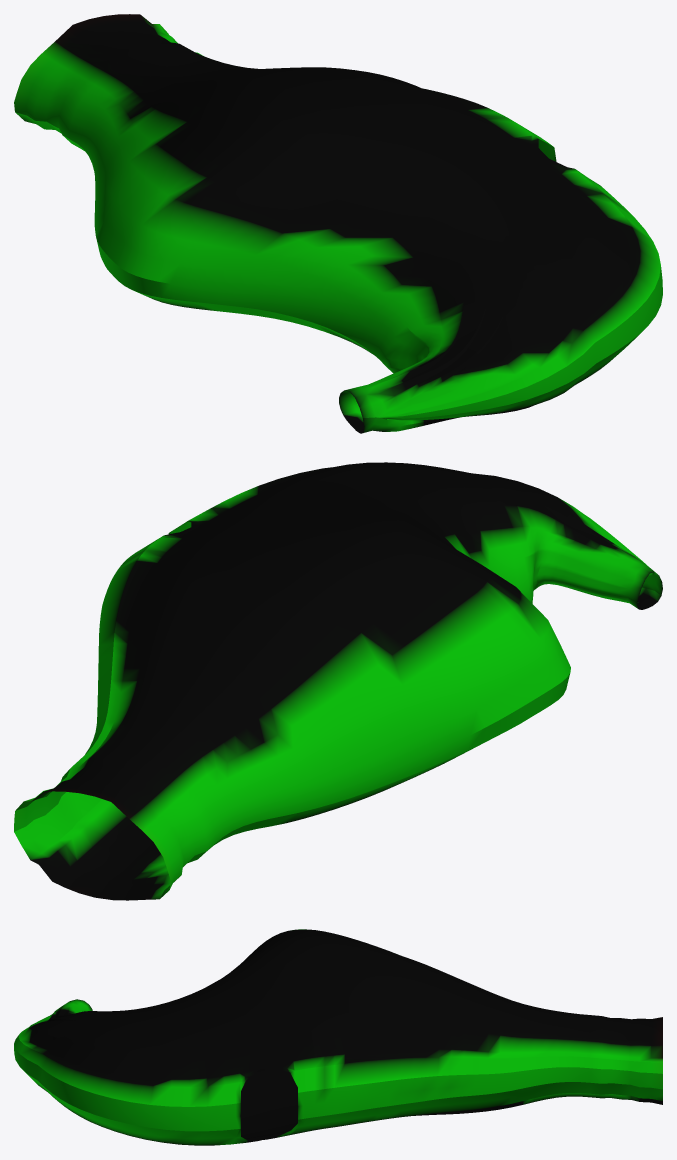
The model's file is Cavern.obj.
3 renders of one model, top to bottom at view 1: azimuth 30°, elevation 25°; view 2: azimuth 150°, elevation 25°; view 3: azimuth 270°, elevation 25°, orthographic. The views are drawn at different scales.
Parts seen in each view (by area): view 1: Cavern; view 2: Cavern; view 3: Cavern.
Boxes of the visible parts, <box> form: Cavern: <box>14,14,662,433</box>; Cavern: <box>14,462,662,900</box>; Cavern: <box>14,929,662,1145</box>.
Size of the model in its own units: 31.59 by 13.15 by 55.98.
